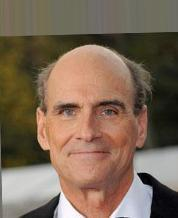face: (56, 100, 121, 159)
